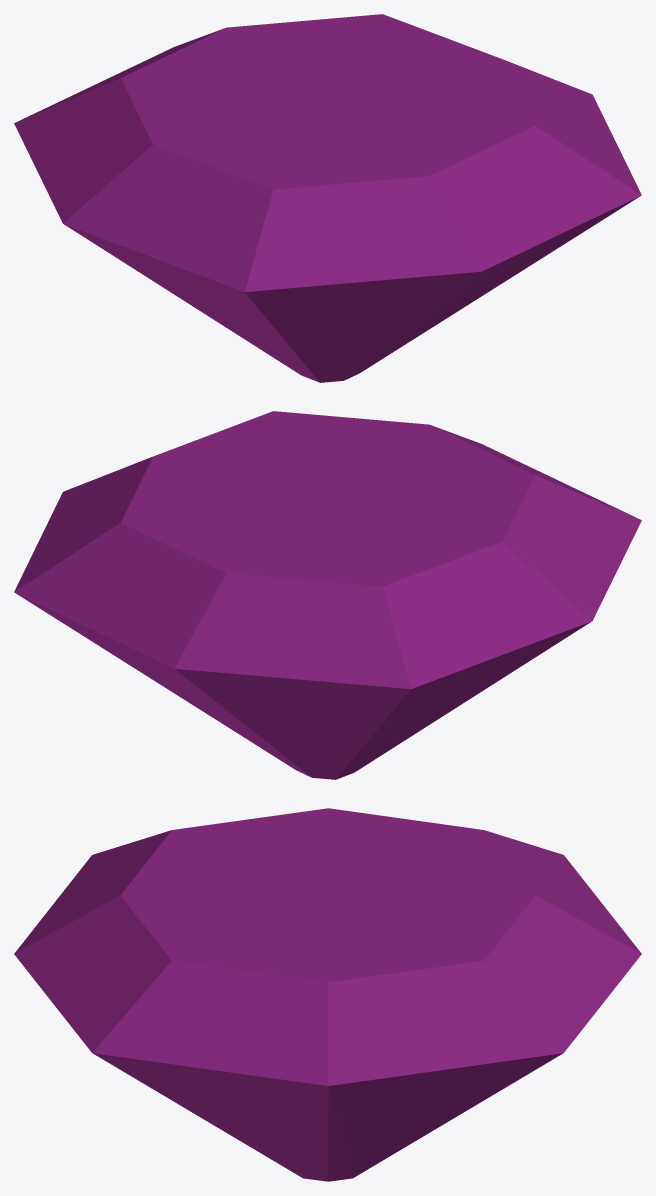
The model's file is Gem013.fbx.
The picture shows the model from 3 angles, top to bottom: view 1: azimuth 30°, elevation 25°; view 2: azimuth 150°, elevation 25°; view 3: azimuth 270°, elevation 25°; orthographic projection. The views are drawn at different scales.
Visible parts, largest first — view 1: Gem013; view 2: Gem013; view 3: Gem013.
Part boxes in pixels (bbox=[...]): Gem013: bbox=[14, 14, 641, 382]; Gem013: bbox=[14, 411, 641, 779]; Gem013: bbox=[14, 808, 641, 1181].
Bounding box in the file's own units: 248 × 120 × 249.
